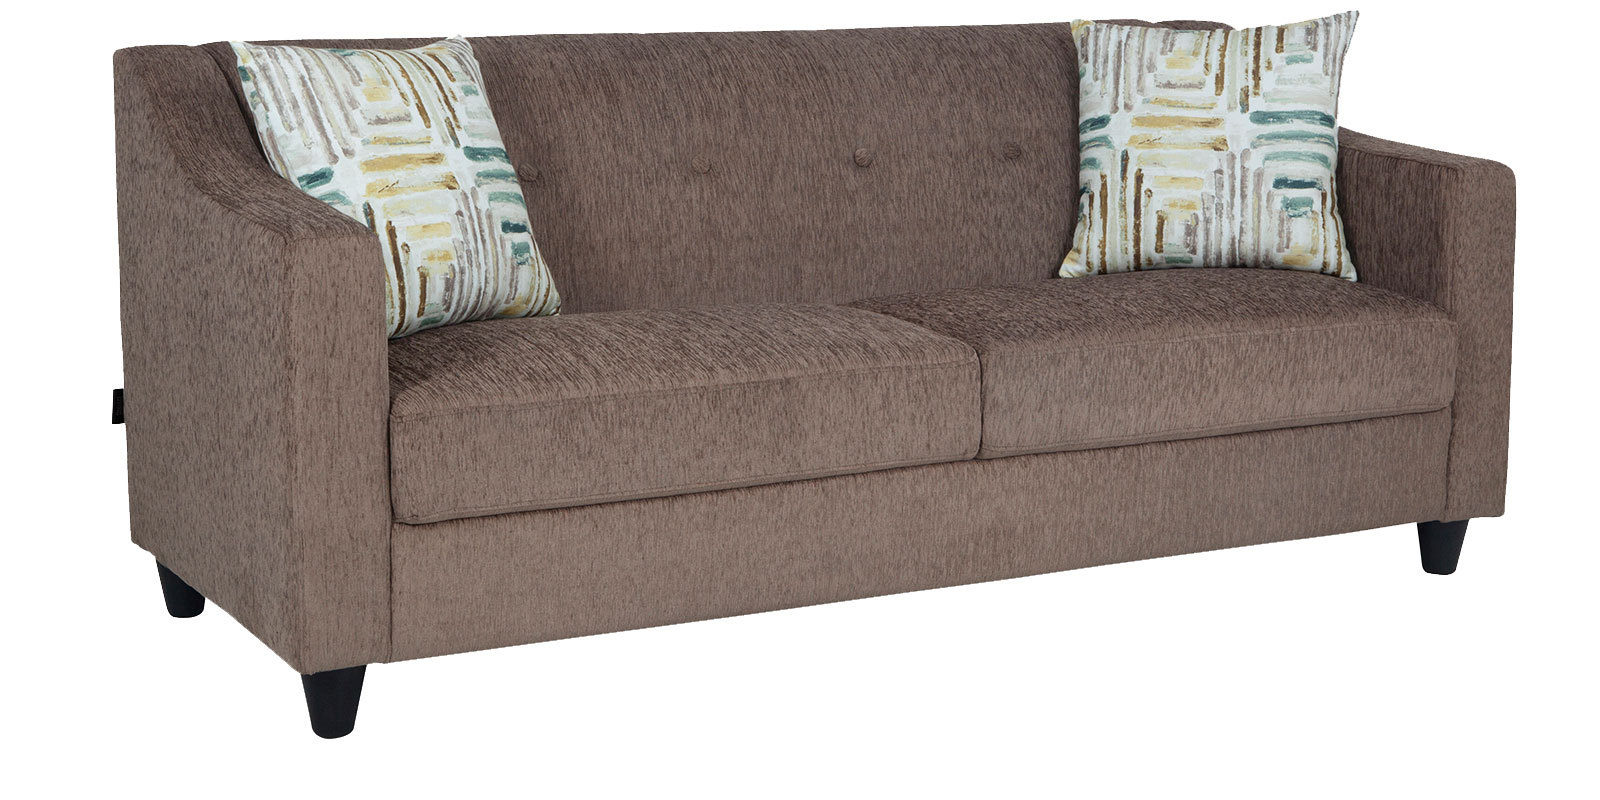Derby Three Seater Sofa in Grey Colour by Urban Living: (80, 24, 1523, 658)
